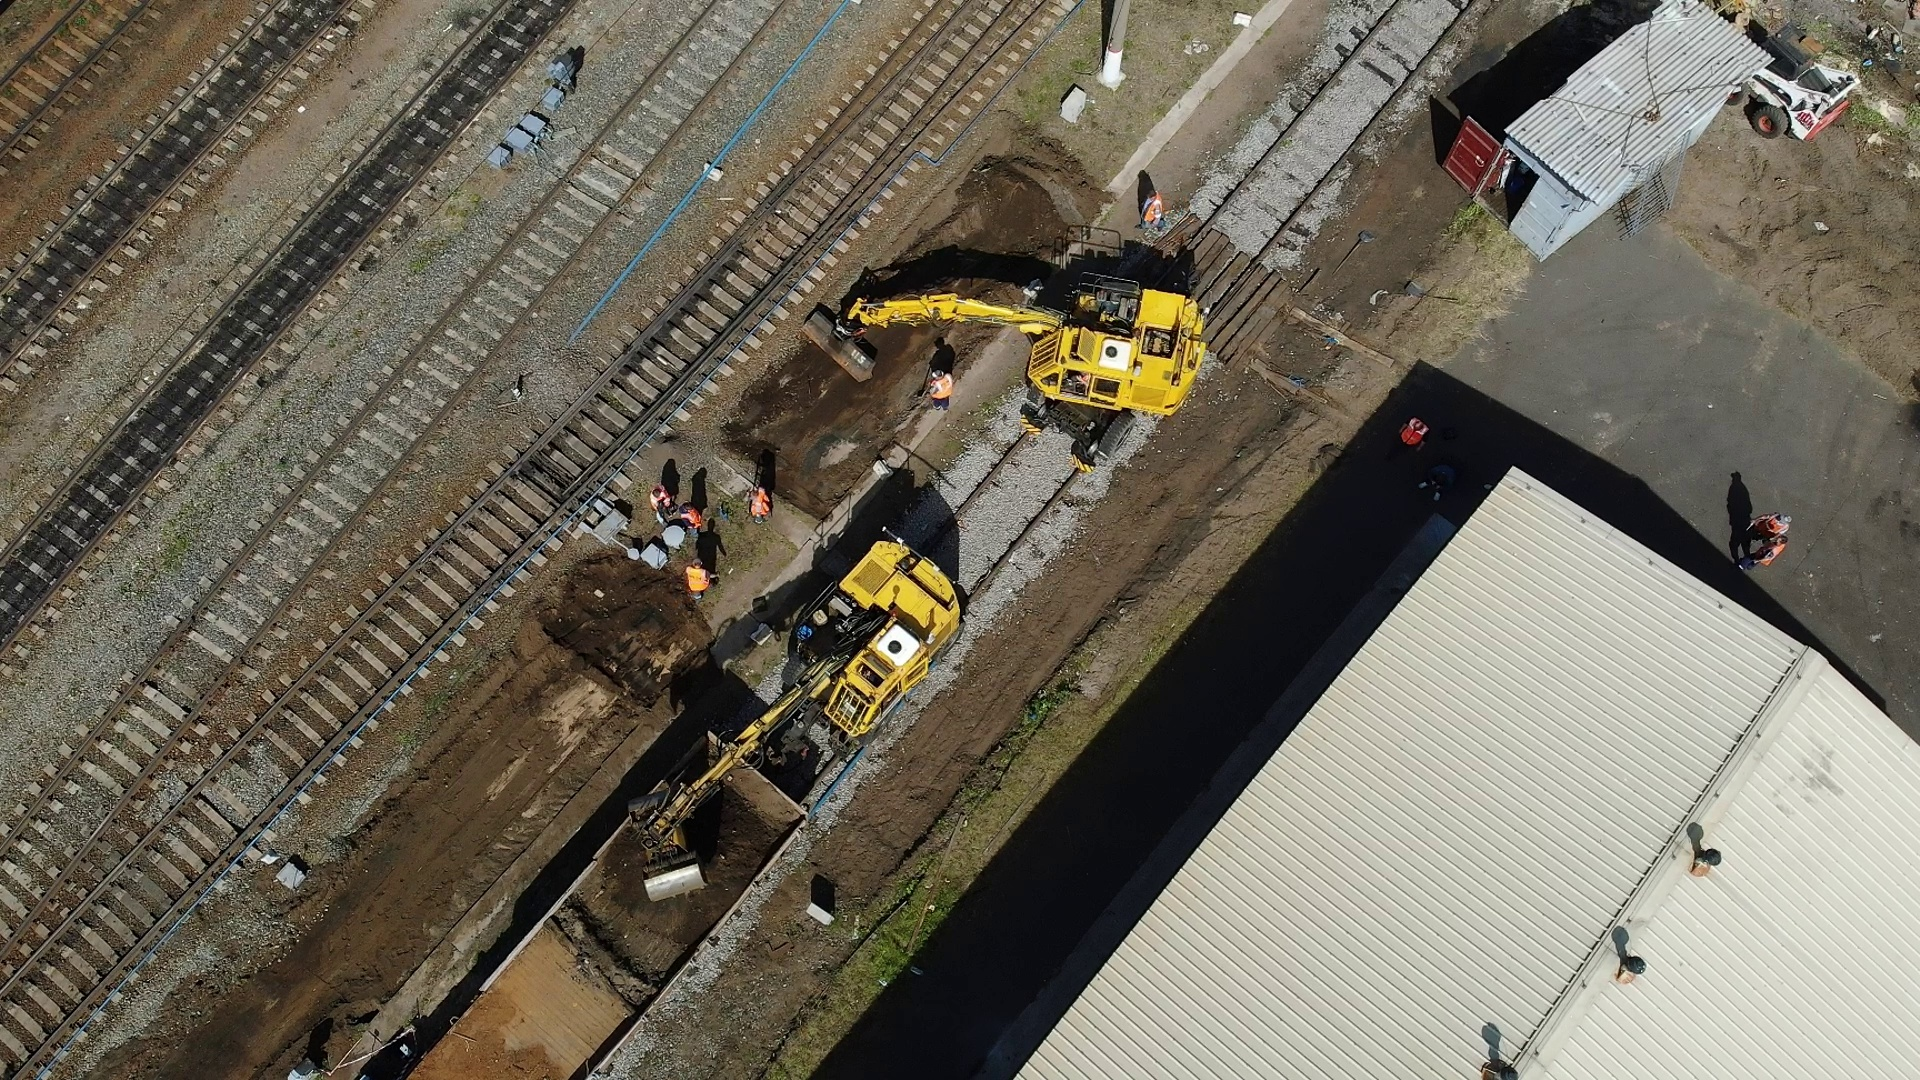kjtv: (934, 268, 1207, 456), (760, 529, 976, 753)
